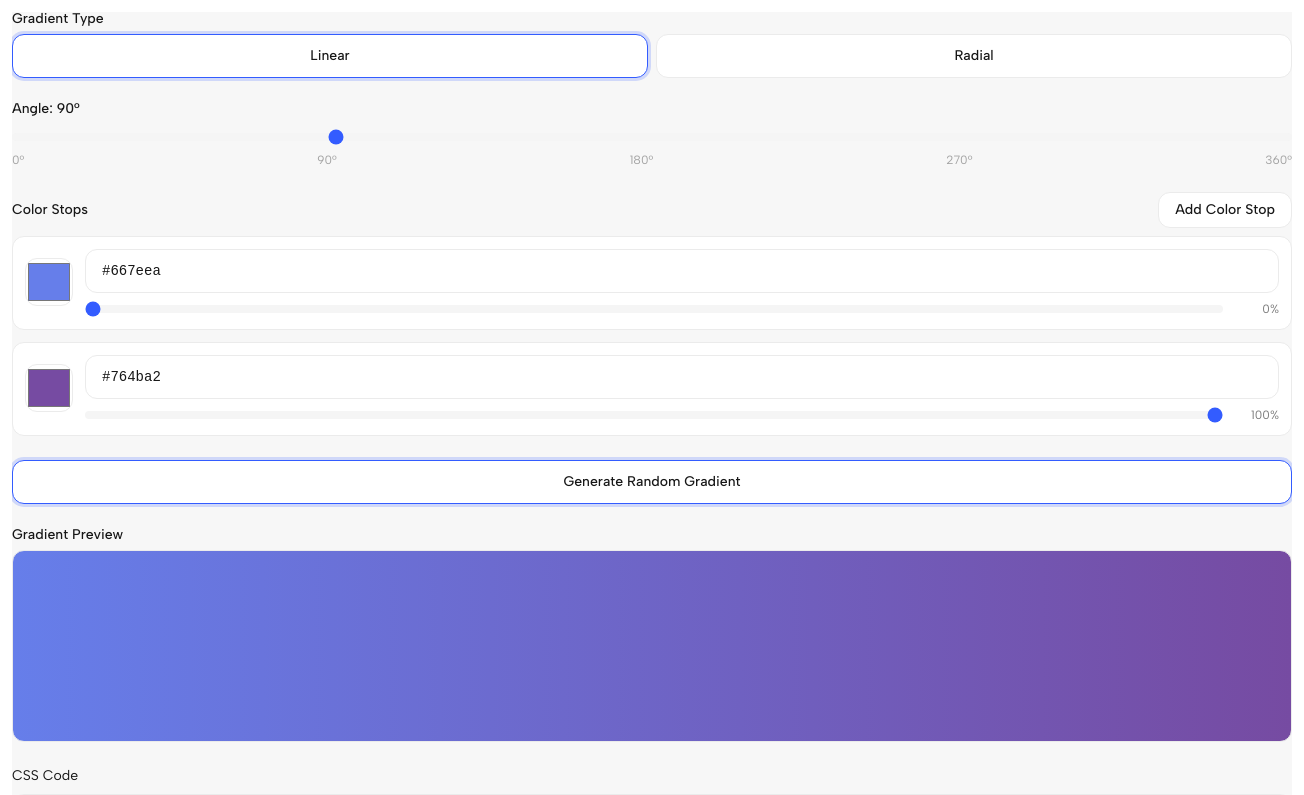
GradientGeneratorTool › hides angle slider when radial is selected
Click the button "Radial" at (974, 56), box 656,34 -> 1292,78
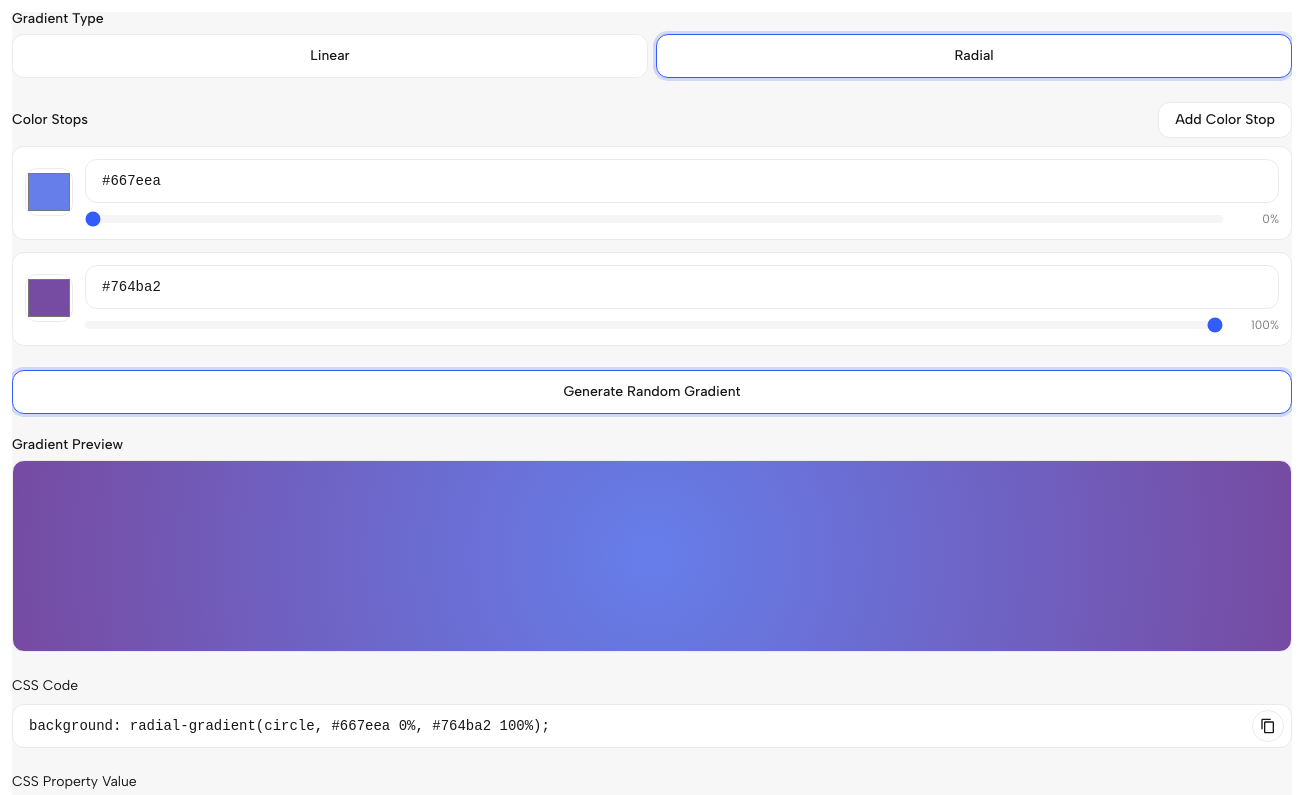
Expected: the text "Angle:" is gone
